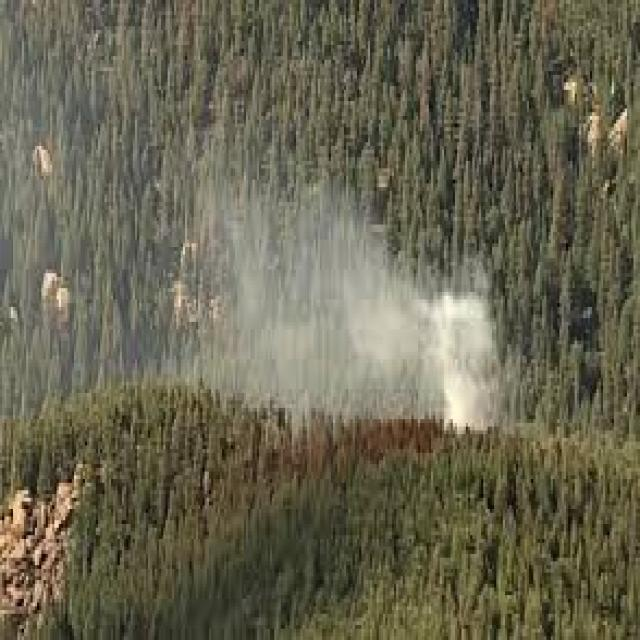Smoke: (210, 172, 420, 422), (234, 249, 502, 436), (426, 282, 505, 458)
